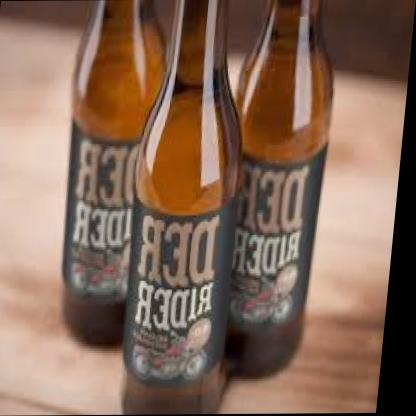trash: (124, 0, 239, 412), (63, 0, 183, 343), (227, 0, 332, 375)
